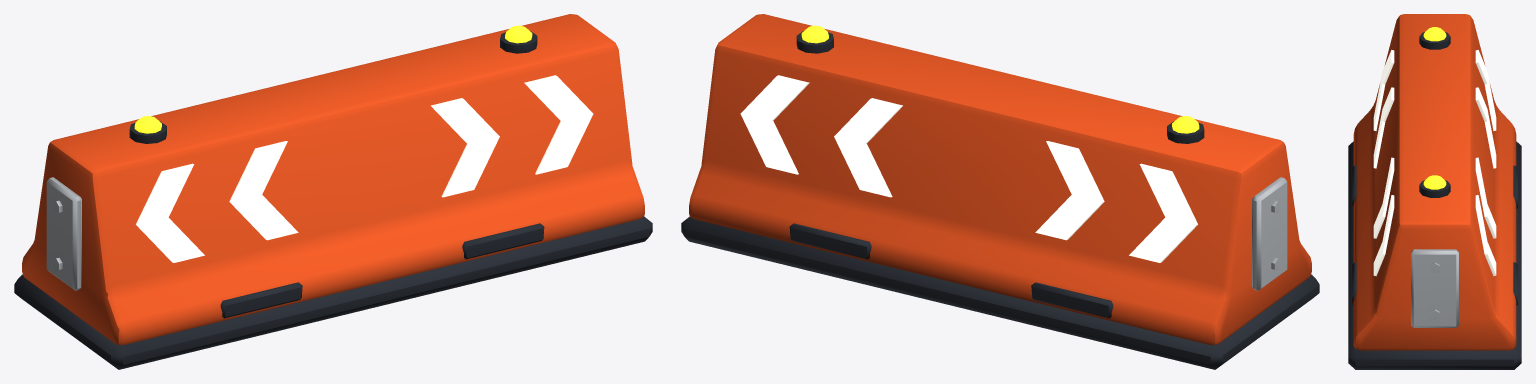
The model's file is barrier.glb.
The picture shows the model from 3 angles, left to right: view 1: azimuth 30°, elevation 25°; view 2: azimuth 150°, elevation 25°; view 3: azimuth 270°, elevation 25°; orthographic projection. The views are drawn at different scales.
Visible parts, largest first — view 1: Barrier Barrier orange, Barrier Barrier rubber, Barrier Barrier reflective, Barrier Barrier steel, Barrier Barrier amber lamp; view 2: Barrier Barrier orange, Barrier Barrier rubber, Barrier Barrier reflective, Barrier Barrier steel, Barrier Barrier amber lamp; view 3: Barrier Barrier orange, Barrier Barrier rubber, Barrier Barrier reflective, Barrier Barrier steel, Barrier Barrier amber lamp.
Part boxes in pixels (left/top/right/bottom): Barrier Barrier orange: left=22, top=14, right=644, bottom=344; Barrier Barrier rubber: left=14, top=31, right=652, bottom=369; Barrier Barrier reflective: left=136, top=75, right=593, bottom=262; Barrier Barrier steel: left=46, top=177, right=81, bottom=290; Barrier Barrier amber lamp: left=134, top=25, right=532, bottom=133; Barrier Barrier orange: left=689, top=14, right=1311, bottom=344; Barrier Barrier rubber: left=681, top=31, right=1319, bottom=369; Barrier Barrier reflective: left=740, top=75, right=1197, bottom=262; Barrier Barrier steel: left=1252, top=177, right=1287, bottom=290; Barrier Barrier amber lamp: left=801, top=25, right=1199, bottom=133; Barrier Barrier orange: left=1353, top=14, right=1516, bottom=350; Barrier Barrier rubber: left=1348, top=32, right=1521, bottom=369; Barrier Barrier reflective: left=1373, top=50, right=1496, bottom=276; Barrier Barrier steel: left=1411, top=249, right=1458, bottom=327; Barrier Barrier amber lamp: left=1423, top=27, right=1446, bottom=189.
Bounding box in the file's own units: 2.85 × 0.97 × 0.94.
